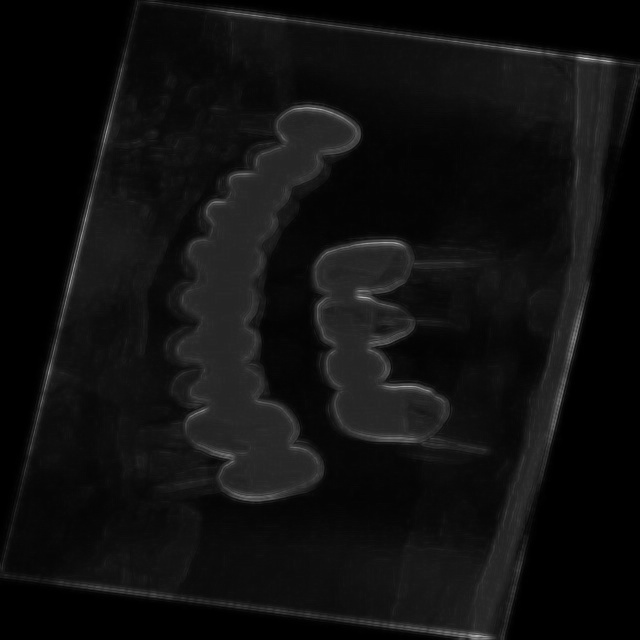Class 1- complete endodontic treatment: (288, 192, 524, 316)
Class 2- incomplete endodontic treatment: (100, 418, 334, 552), (305, 370, 506, 490), (296, 281, 488, 368)
cavity: (152, 70, 400, 171)
